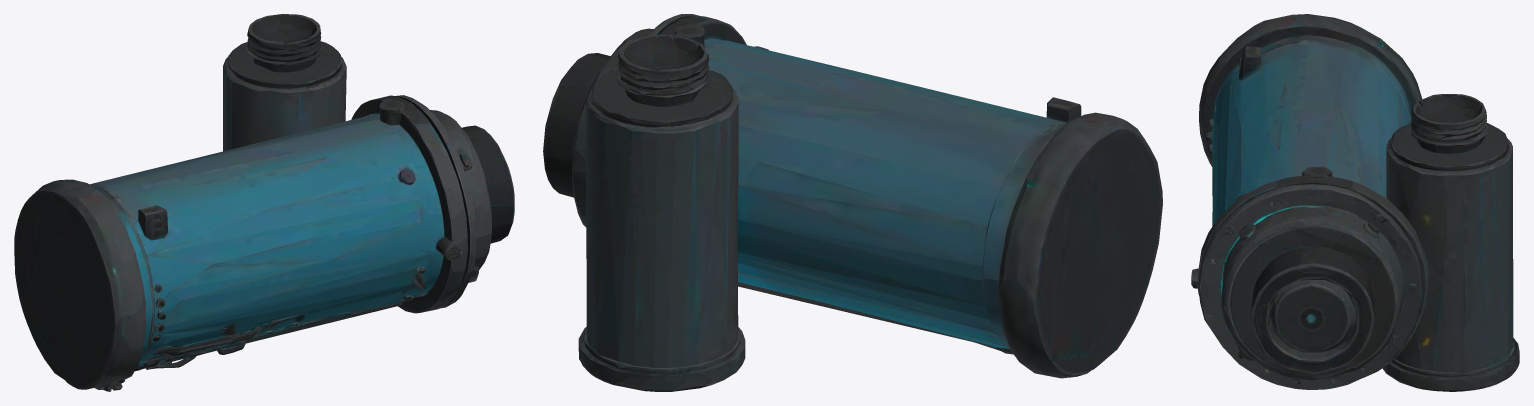
File: mx_battery_cell.glb
3 renders of one model, left to right at view 1: azimuth 30°, elevation 25°; view 2: azimuth 150°, elevation 25°; view 3: azimuth 270°, elevation 25°, orthographic. The views are drawn at different scales.
Size of the model in its own units: 1.9 by 1.06 by 1.25.
1 material, 1 textured.
